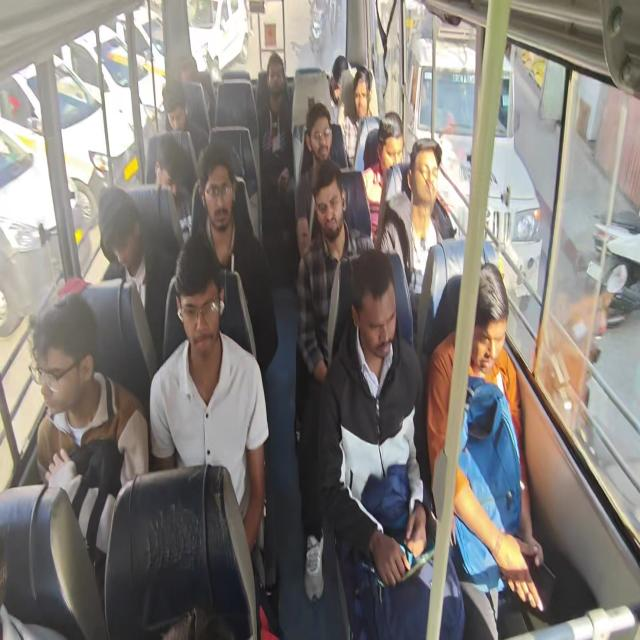person: (21, 306, 109, 423), (158, 242, 224, 361), (347, 255, 399, 364), (88, 178, 146, 269), (472, 255, 512, 371), (194, 131, 236, 236), (403, 121, 442, 214), (308, 154, 352, 234), (146, 130, 188, 202), (154, 81, 195, 137), (376, 108, 409, 174), (304, 102, 341, 159), (348, 62, 374, 123), (259, 47, 292, 91), (328, 48, 351, 100), (177, 53, 200, 89)
